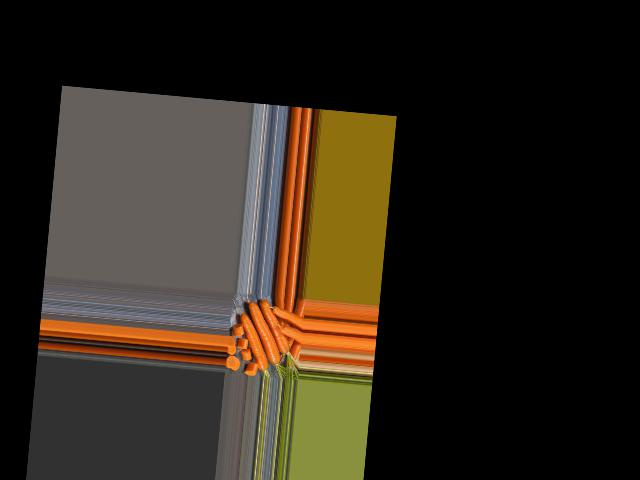carrot: (256, 298, 295, 354)
